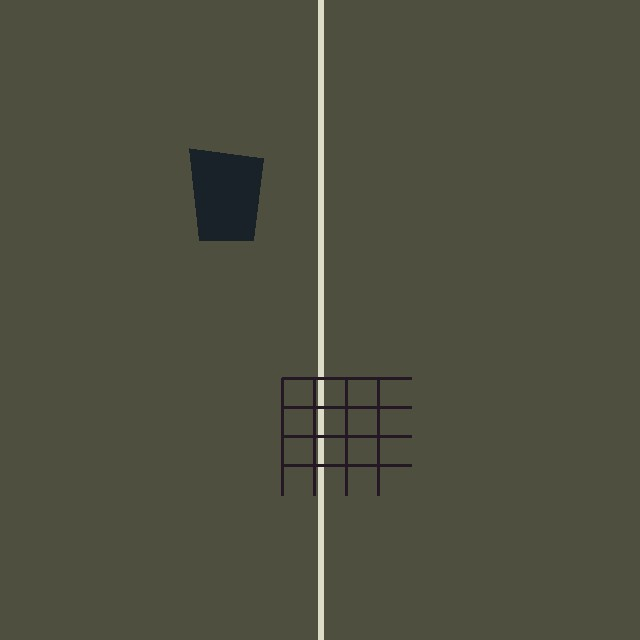alligator_crack: (282, 378, 411, 495)
damaged_surface: (189, 148, 263, 240)
